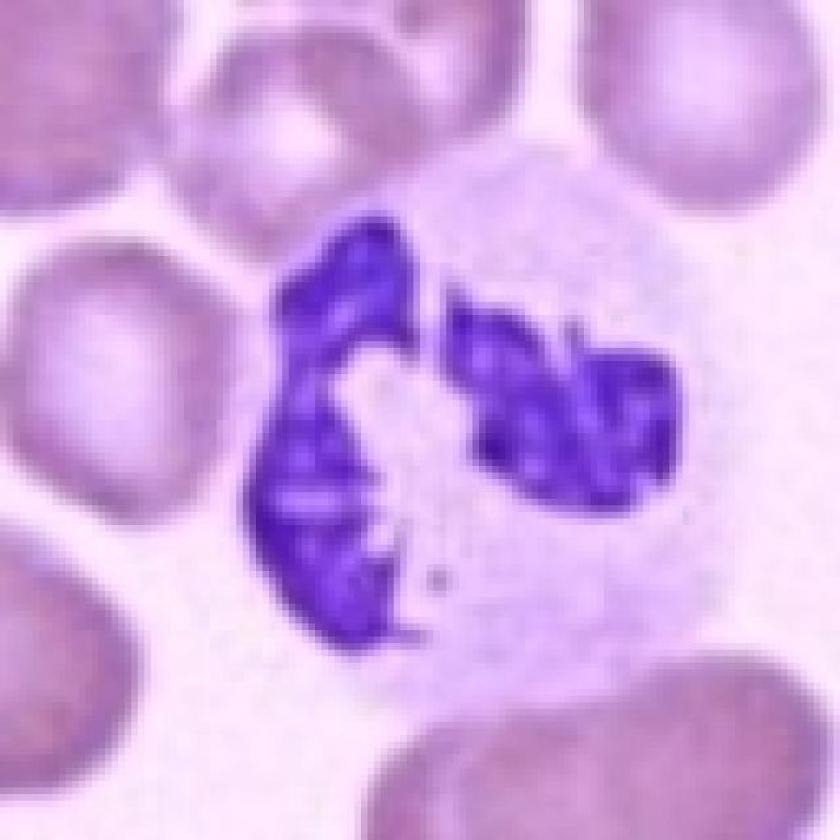neutrophil: (220, 136, 747, 718)
